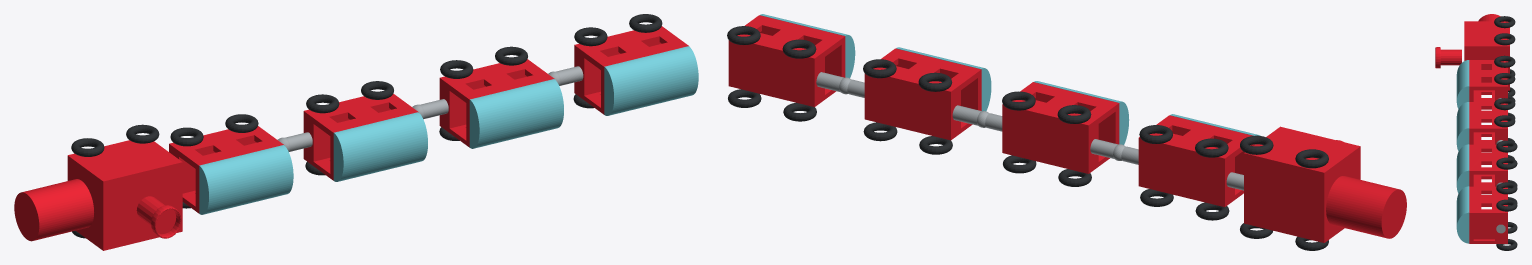
Rendered from tinker.obj.
3 renders of one model, left to right at view 1: azimuth 30°, elevation 25°; view 2: azimuth 150°, elevation 25°; view 3: azimuth 270°, elevation 25°, orthographic. The views are drawn at different scales.
Parts seen in each view (by area): view 1: group_0_15277357, group_0_7720667, group_0_2829873, group_0_10988977; view 2: group_0_15277357, group_0_2829873, group_0_10988977, group_0_7720667; view 3: group_0_15277357, group_0_2829873, group_0_7720667, group_0_10988977.
Boxes of the visible parts, bbox=[...] form: group_0_15277357: bbox=[14, 26, 688, 250]; group_0_7720667: bbox=[199, 46, 698, 214]; group_0_2829873: bbox=[71, 14, 662, 238]; group_0_10988977: bbox=[277, 66, 583, 151]; group_0_15277357: bbox=[728, 15, 1406, 242]; group_0_2829873: bbox=[727, 26, 1328, 250]; group_0_10988977: bbox=[816, 72, 1243, 190]; group_0_7720667: bbox=[760, 14, 1260, 144]; group_0_15277357: bbox=[1435, 14, 1509, 243]; group_0_2829873: bbox=[1494, 16, 1517, 250]; group_0_7720667: bbox=[1456, 60, 1469, 243]; group_0_10988977: bbox=[1496, 98, 1505, 233].
Size of the model in its own units: 447 by 60 by 77.
